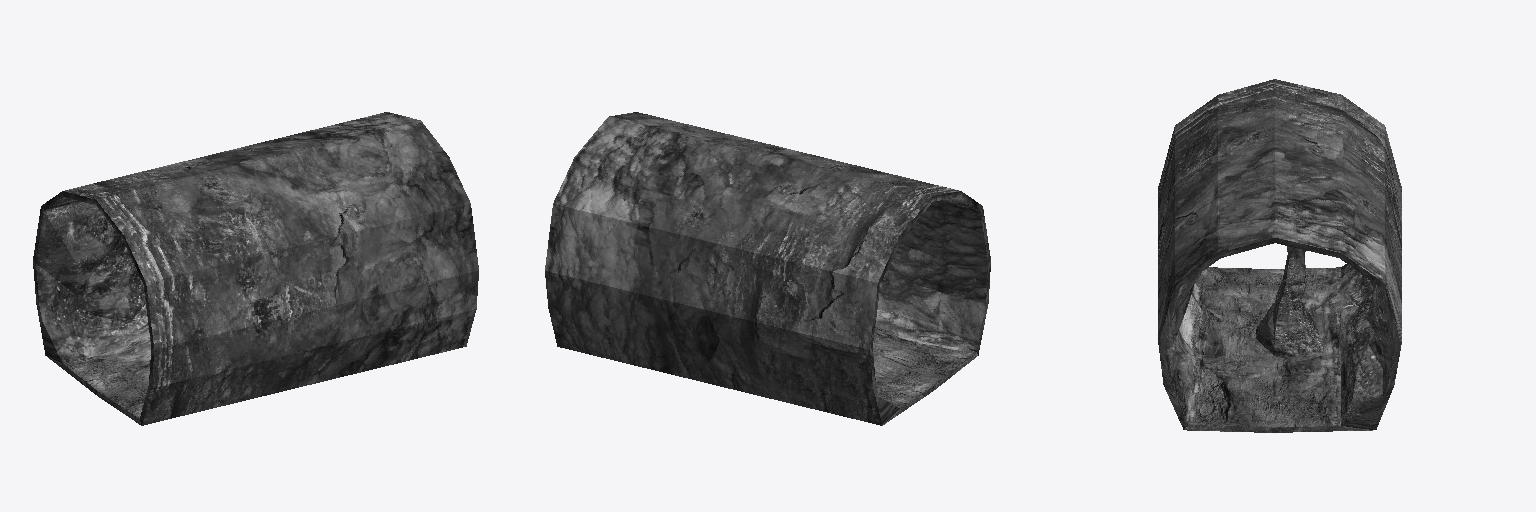
3 renders of one model, left to right at view 1: azimuth 30°, elevation 25°; view 2: azimuth 150°, elevation 25°; view 3: azimuth 270°, elevation 25°, orthographic.
Parts seen in each view (by area): view 1: CaveCorridor1; view 2: CaveCorridor1; view 3: CaveCorridor1.
Part boxes in pixels (x1,y1,x2,y2): CaveCorridor1: (33,112,478,425); CaveCorridor1: (545,112,990,425); CaveCorridor1: (1158,79,1401,432).
Size of the model in its own units: 158 by 90.67 by 102.
Materials: 1 (1 with a texture image).